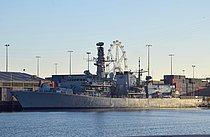MIL_Ship: (10, 41, 202, 109)
